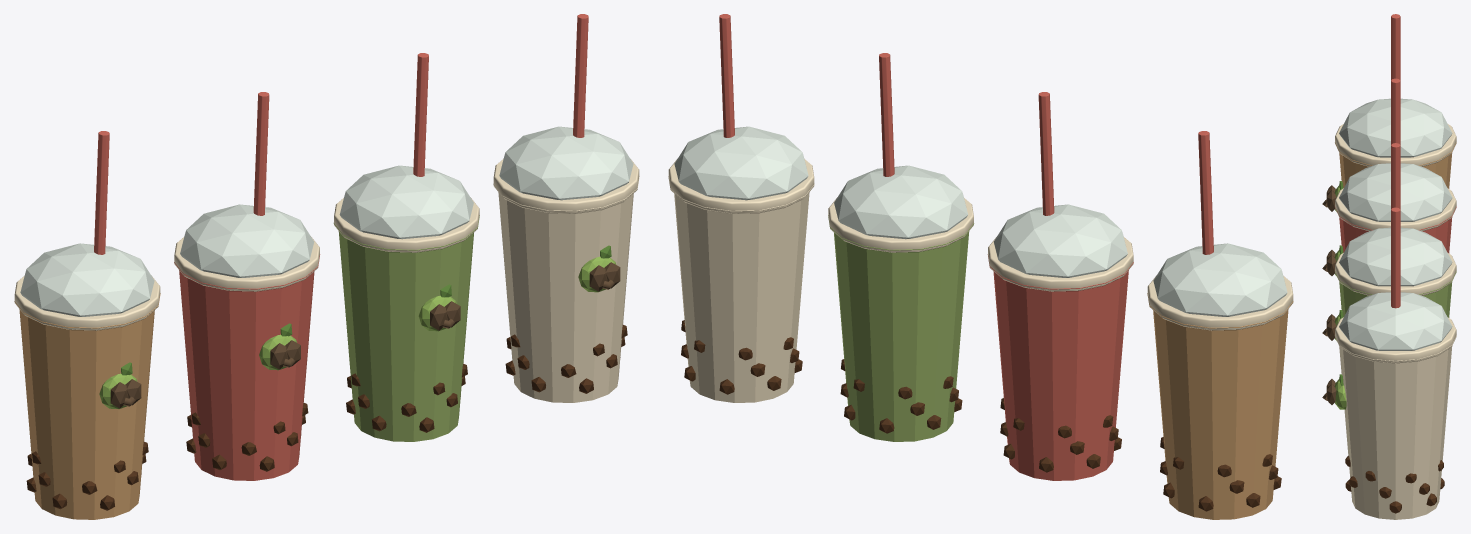
The model's file is finished_boba.fbx.
3 renders of one model, left to right at view 1: azimuth 30°, elevation 25°; view 2: azimuth 150°, elevation 25°; view 3: azimuth 270°, elevation 25°, orthographic. The views are drawn at different scales.
Visible parts, largest first — view 1: finished_boba; view 2: finished_boba; view 3: finished_boba.
Part boxes in pixels (<box>): finished_boba: <box>14,14,639,519</box>; finished_boba: <box>668,14,1293,519</box>; finished_boba: <box>1322,14,1456,519</box>.
Bounding box in the file's own units: 0.475 × 0.2701 × 0.1102.
